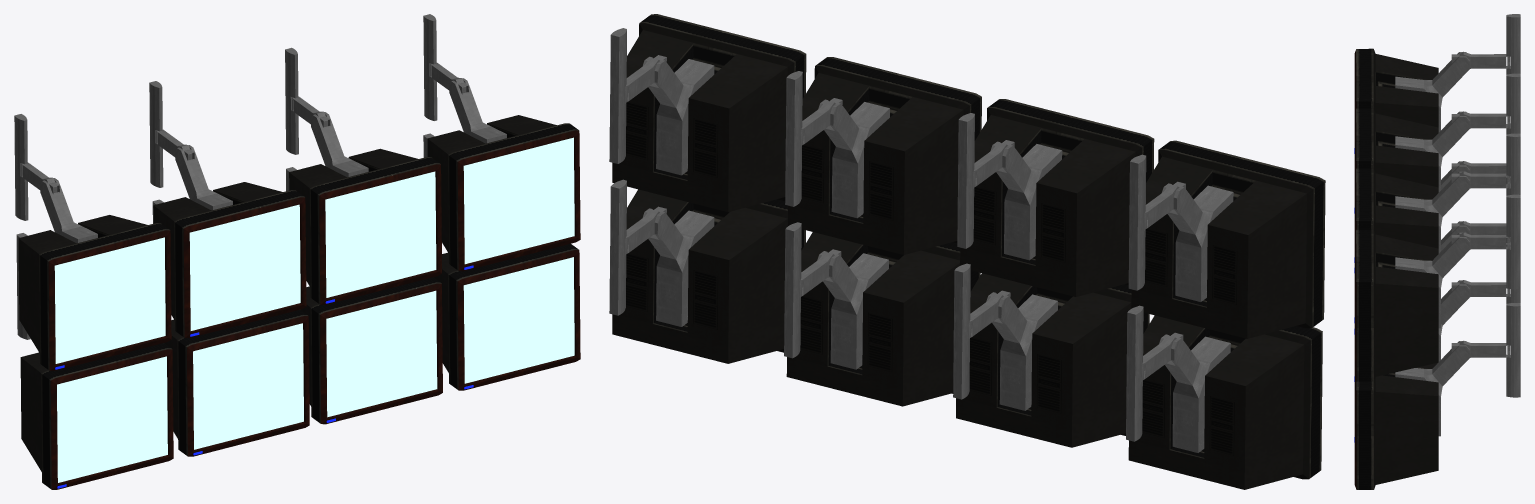
Rendered from eightMonitors.glb.
3 views of the same model, side by side, from view 1: azimuth 30°, elevation 25°; view 2: azimuth 150°, elevation 25°; view 3: azimuth 270°, elevation 25° (orthographic). The views are drawn at different scales.
Parts seen in each view (by area): view 1: Screen5, Screen3, Screen8, Screen6, Screen2, Screen4, Screen7, Screen1, Object_9.128, Object_9.420, Object_9.107, Object_9.021 (+34 smaller); view 2: Object_9.420, Object_9.128, Object_9.204, Object_9.258, Object_9.366, Object_9.150, Object_9.042, Object_9.312, Object_9.429, Object_9.267, Object_9.321, Object_9.375 (+72 smaller); view 3: Object_9.201, Object_9.255, Object_9.200, Object_9.254, Object_9.147, Object_9.039, Object_9.125, Object_9.107, Object_9.021, Object_9.075, Object_9.183, Object_6.201 (+56 smaller).
Part boxes in pixels (x1=…): Screen5: x1=57, y1=356, x2=167, y2=482; Screen3: x1=325, y1=171, x2=436, y2=297; Screen8: x1=463, y1=257, x2=574, y2=383; Screen6: x1=193, y1=323, x2=303, y2=449; Screen2: x1=189, y1=204, x2=300, y2=330; Screen4: x1=463, y1=137, x2=574, y2=264; Screen7: x1=326, y1=290, x2=437, y2=417; Screen1: x1=54, y1=237, x2=165, y2=363; Object_9.128: x1=18, y1=238, x2=39, y2=352; Object_9.420: x1=20, y1=357, x2=41, y2=471; Object_9.107: x1=44, y1=223, x2=165, y2=258; Object_9.021: x1=179, y1=190, x2=300, y2=225; Object_9.420: x1=1244, y1=345, x2=1304, y2=489; Object_9.128: x1=1247, y1=194, x2=1306, y2=338; Object_9.204: x1=728, y1=67, x2=787, y2=211; Object_9.258: x1=728, y1=218, x2=787, y2=363; Object_9.366: x1=1072, y1=303, x2=1131, y2=447; Object_9.150: x1=904, y1=110, x2=963, y2=254; Object_9.042: x1=1076, y1=152, x2=1135, y2=296; Object_9.312: x1=902, y1=263, x2=959, y2=406; Object_9.429: x1=1128, y1=385, x2=1245, y2=489; Object_9.267: x1=612, y1=258, x2=729, y2=363; Object_9.321: x1=786, y1=301, x2=903, y2=406; Object_9.375: x1=956, y1=342, x2=1072, y2=447; Object_9.201: x1=1375, y1=283, x2=1438, y2=376; Object_9.255: x1=1375, y1=392, x2=1438, y2=484; Object_9.200: x1=1356, y1=282, x2=1373, y2=381; Object_9.254: x1=1356, y1=390, x2=1373, y2=489; Object_9.147: x1=1375, y1=222, x2=1438, y2=248; Object_9.039: x1=1375, y1=162, x2=1438, y2=187; Object_9.125: x1=1375, y1=103, x2=1438, y2=127; Object_9.107: x1=1356, y1=49, x2=1374, y2=98; Object_9.021: x1=1356, y1=109, x2=1374, y2=157; Object_9.075: x1=1356, y1=169, x2=1374, y2=217; Object_9.183: x1=1356, y1=230, x2=1374, y2=278; Object_6.201: x1=1432, y1=177, x2=1469, y2=216.
Bounding box in the file's own units: 2.12 × 1.13 × 0.6354.
Materials: 154 (139 with a texture image).
